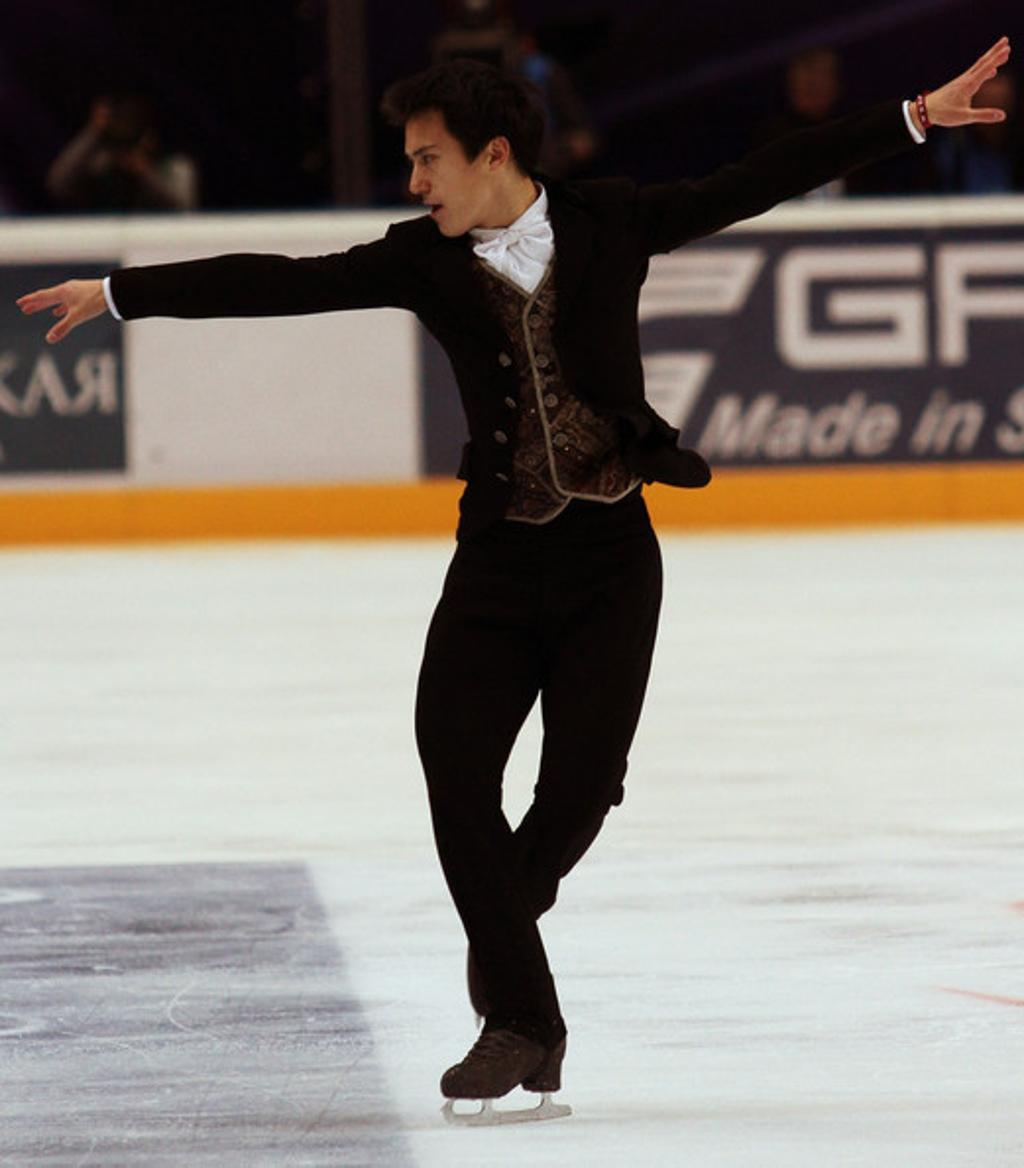face: (406, 109, 493, 234)
